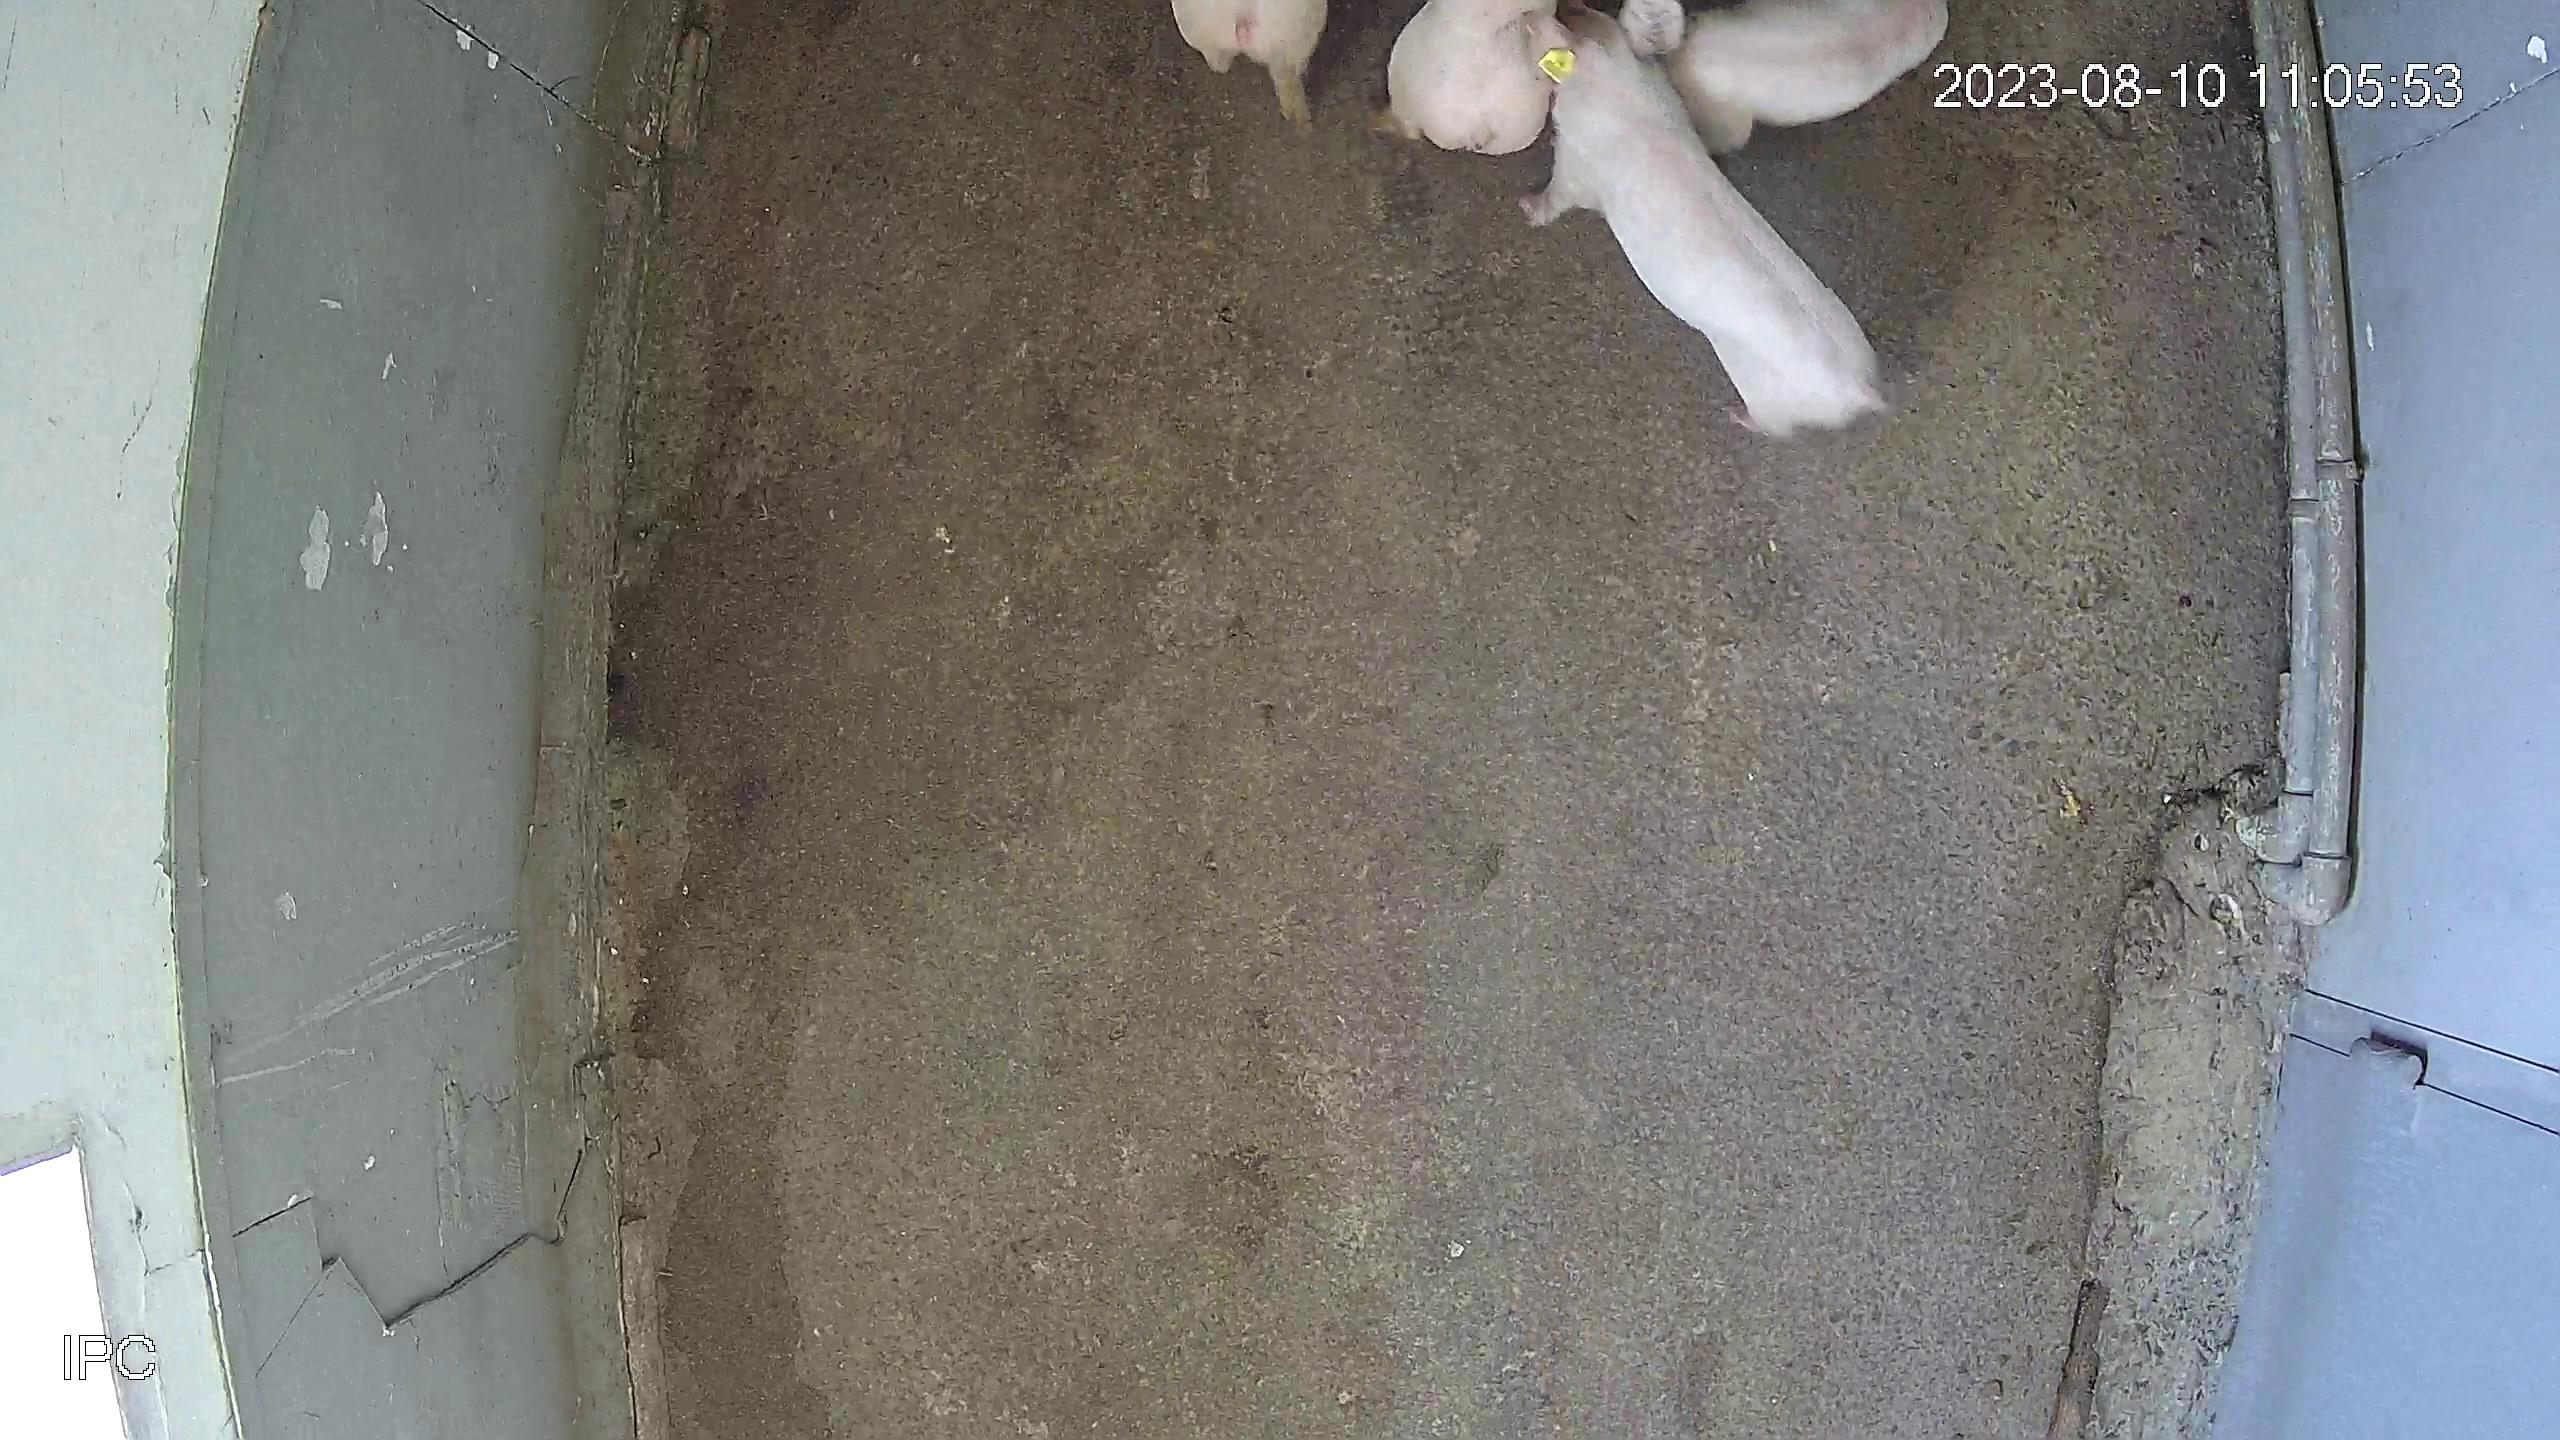Pig: (1523, 5, 1888, 433), (1670, 0, 1950, 149), (1377, 0, 1558, 151), (1173, 0, 1327, 121)
